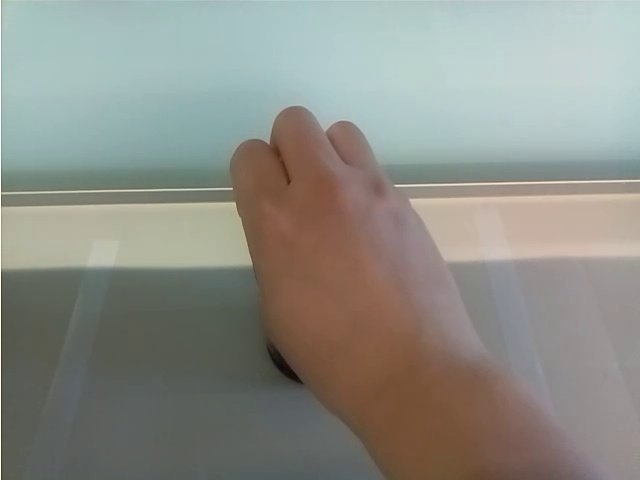hand: (227, 104, 475, 408)
